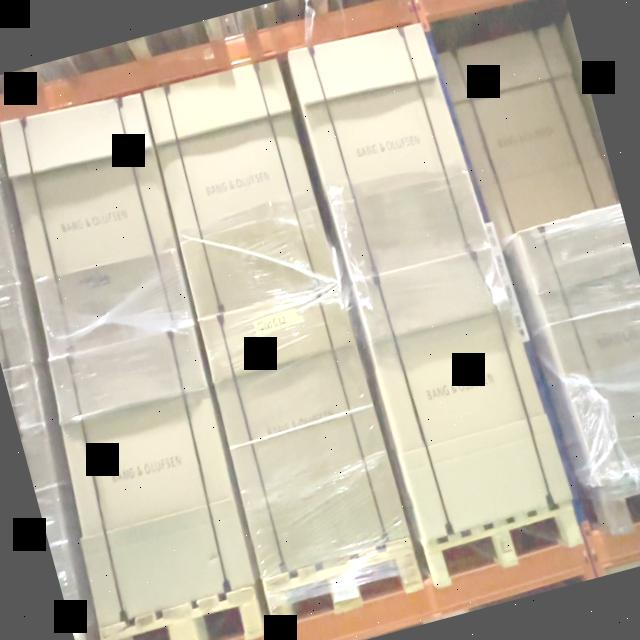box: (356, 252, 566, 538), (51, 328, 251, 616), (202, 290, 404, 574), (291, 22, 483, 282), (146, 60, 334, 316), (3, 96, 190, 348)
